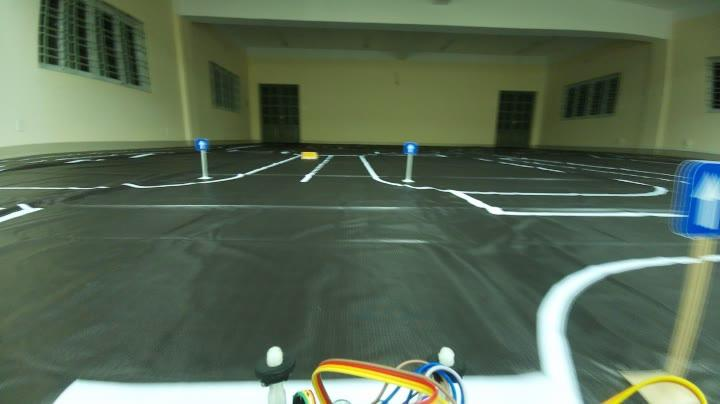onewayroad: (671, 160, 720, 238), (193, 137, 212, 153), (401, 141, 421, 155)
roadblock: (300, 151, 316, 159)
